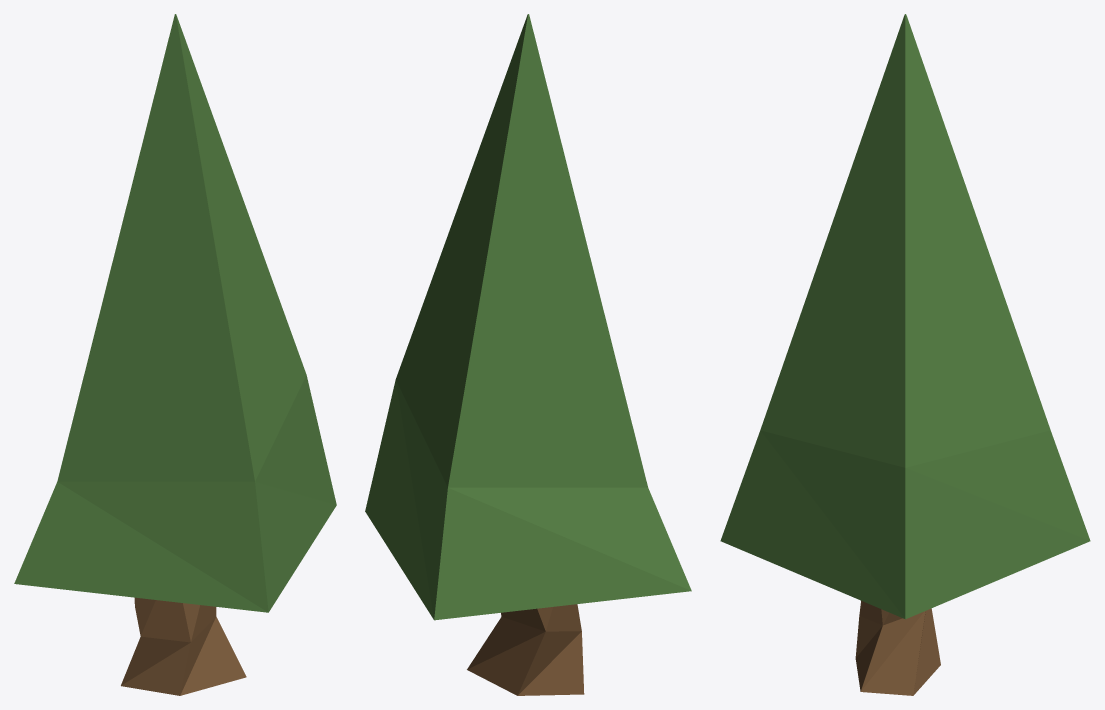
File: tree3d-042.glb
3 renders of one model, left to right at view 1: azimuth 30°, elevation 25°; view 2: azimuth 150°, elevation 25°; view 3: azimuth 270°, elevation 25°, orthographic.
Parts seen in each view (by area): view 1: tree3d-042; view 2: tree3d-042; view 3: tree3d-042.
Boxes of the visible parts, x1,y1,x2,y2 form: tree3d-042: [14, 14, 336, 695]; tree3d-042: [365, 14, 691, 695]; tree3d-042: [720, 14, 1090, 695].
Bounding box in the file's own units: 0.513 × 1 × 0.513.
